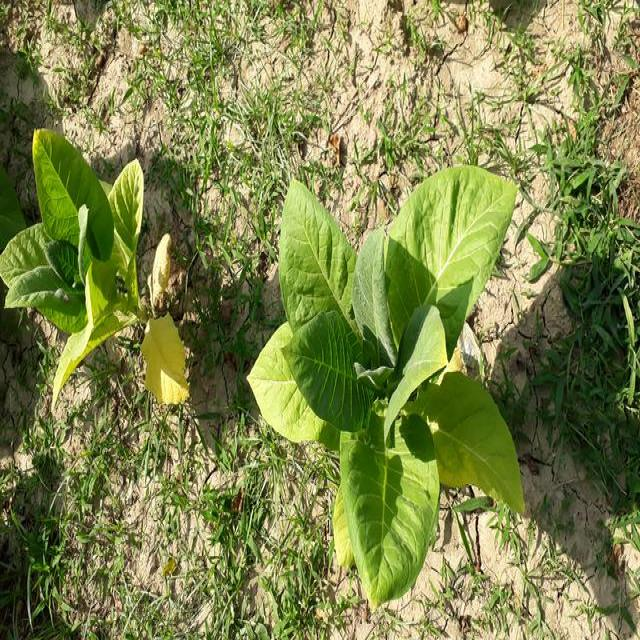crop: (256, 168, 530, 601), (0, 123, 195, 414)
